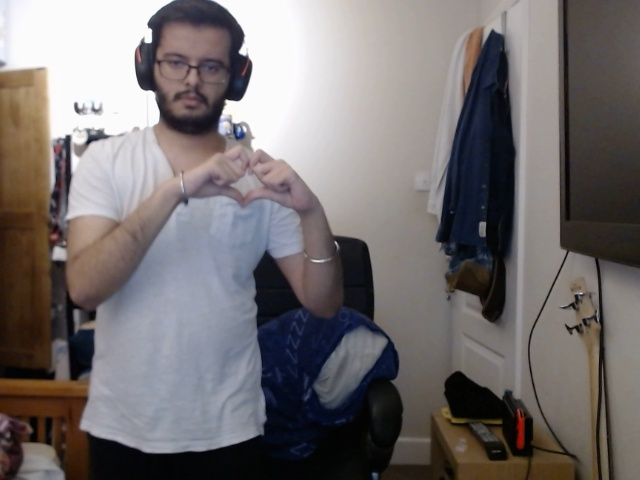Heart: (194, 143, 299, 214)
